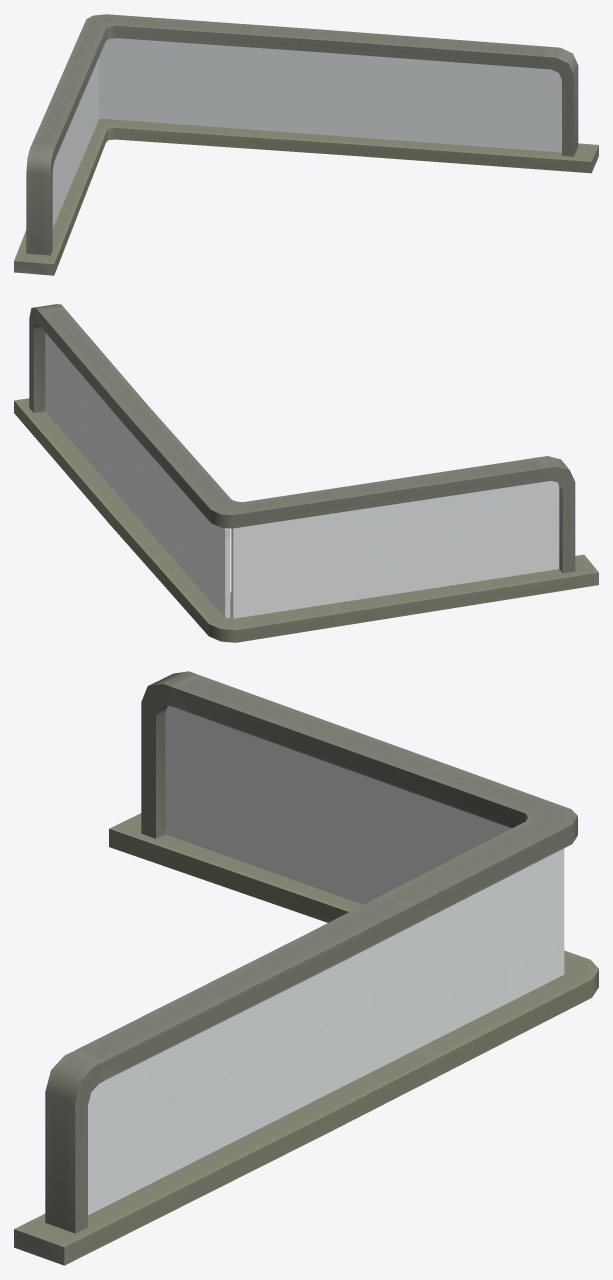
File: pref_sm_city_riverwall06c_snow_lv3.fbx
3 views of the same model, one above another, from view 1: azimuth 30°, elevation 25°; view 2: azimuth 150°, elevation 25°; view 3: azimuth 270°, elevation 25° (orthographic). The views are drawn at different scales.
Visible parts, largest first — view 1: pref_sm_city_riverwall06c_snow_lv3; view 2: pref_sm_city_riverwall06c_snow_lv3; view 3: pref_sm_city_riverwall06c_snow_lv3.
Part boxes in pixels (bbox=[...]): pref_sm_city_riverwall06c_snow_lv3: bbox=[14, 14, 598, 275]; pref_sm_city_riverwall06c_snow_lv3: bbox=[14, 304, 598, 642]; pref_sm_city_riverwall06c_snow_lv3: bbox=[14, 671, 598, 1265].
Size of the model in its own units: 8.05 by 1.5 by 4.53.
